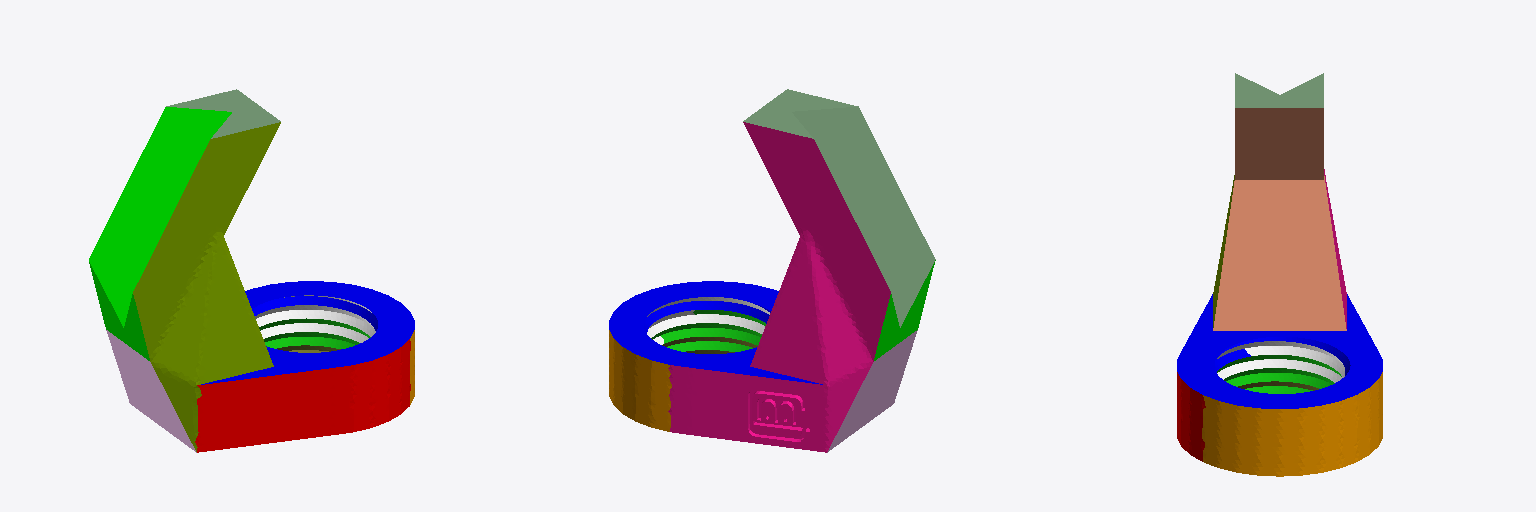
File: model_75_segmented_new.obj
3 renders of one model, left to right at view 1: azimuth 30°, elevation 25°; view 2: azimuth 150°, elevation 25°; view 3: azimuth 270°, elevation 25°, orthographic.
Size of the model in its own units: 45.19 by 44.5 by 27.85.